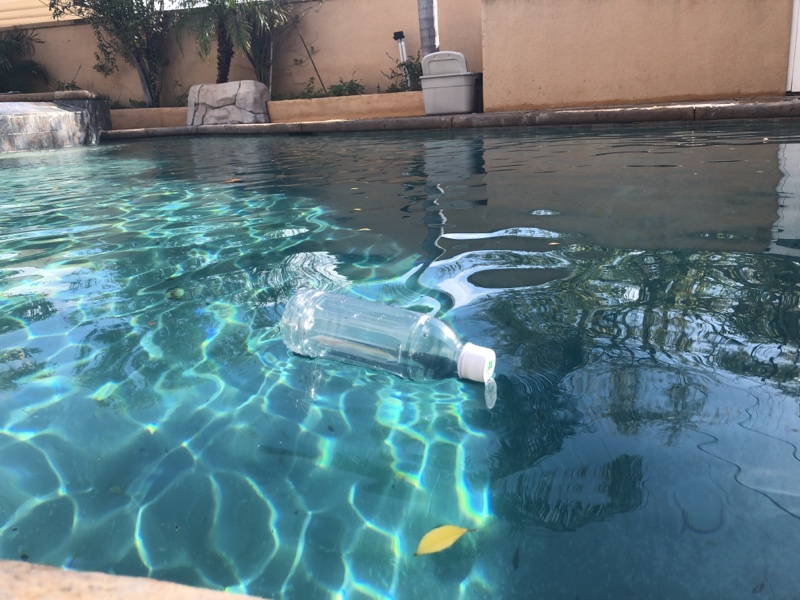Plastic Bottle: (278, 285, 499, 391)
